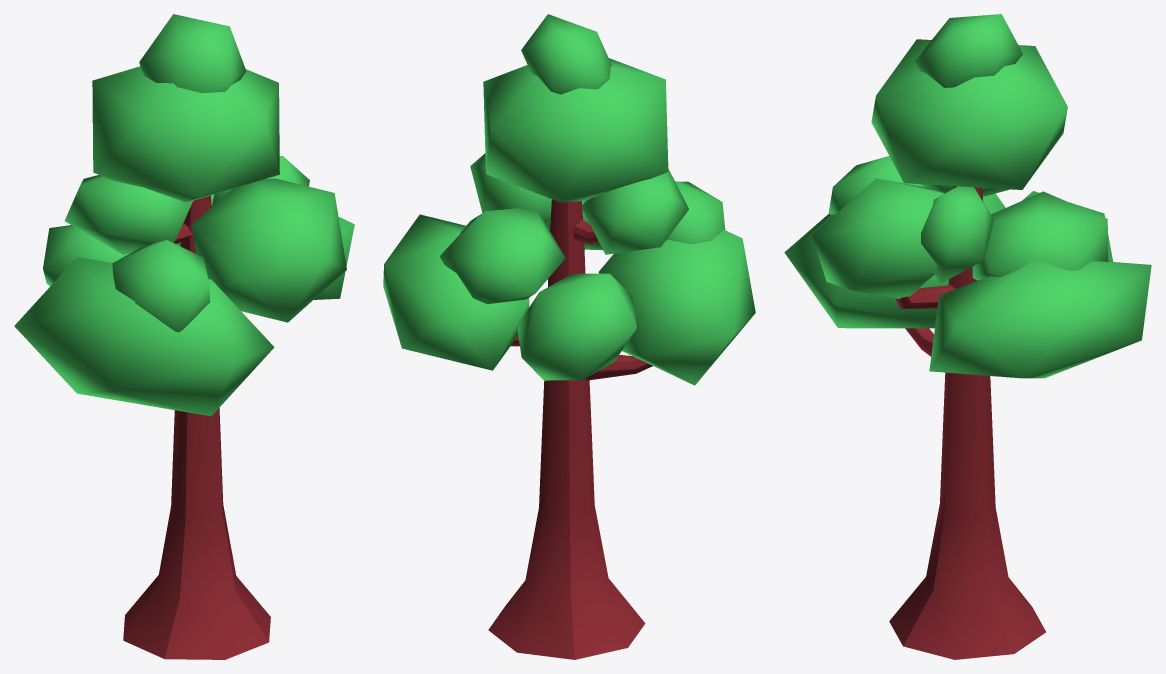
File: Arvore03.fbx
The picture shows the model from 3 angles, left to right: view 1: azimuth 30°, elevation 25°; view 2: azimuth 150°, elevation 25°; view 3: azimuth 270°, elevation 25°; orthographic projection.
Parts seen in each view (by area): view 1: arvore_03; view 2: arvore_03; view 3: arvore_03.
Part boxes in pixels (bbox=[...]): arvore_03: bbox=[14, 14, 354, 659]; arvore_03: bbox=[383, 14, 755, 659]; arvore_03: bbox=[784, 14, 1151, 659].
Size of the model in its own units: 608 by 1061 by 580.
